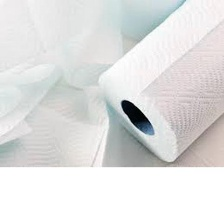tissue: (91, 0, 224, 165), (0, 0, 130, 166)
